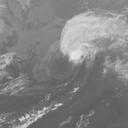cyclone: (59, 21, 97, 64)
